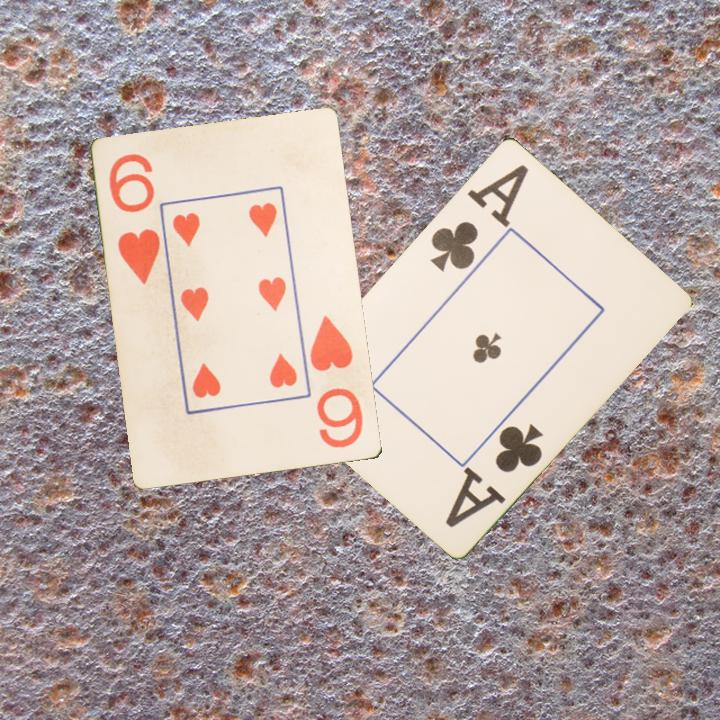6h: (307, 312, 367, 452), (105, 150, 164, 288)
Ac: (426, 159, 532, 274), (441, 419, 546, 531)
